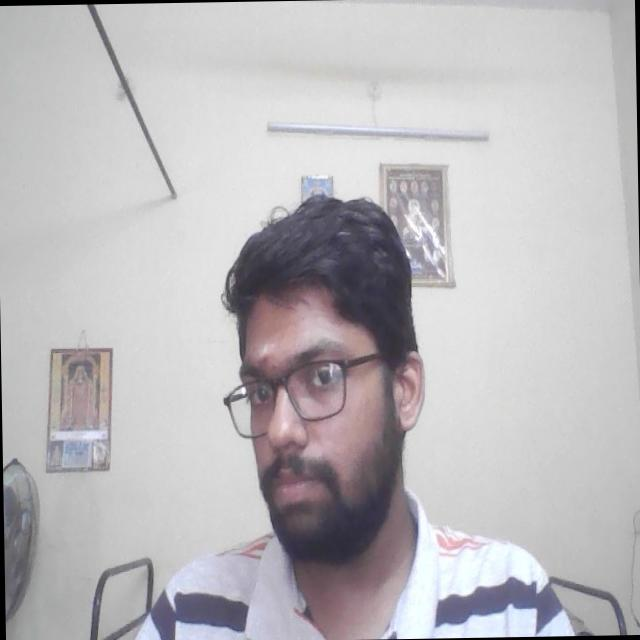Focused: (223, 294, 396, 522)
